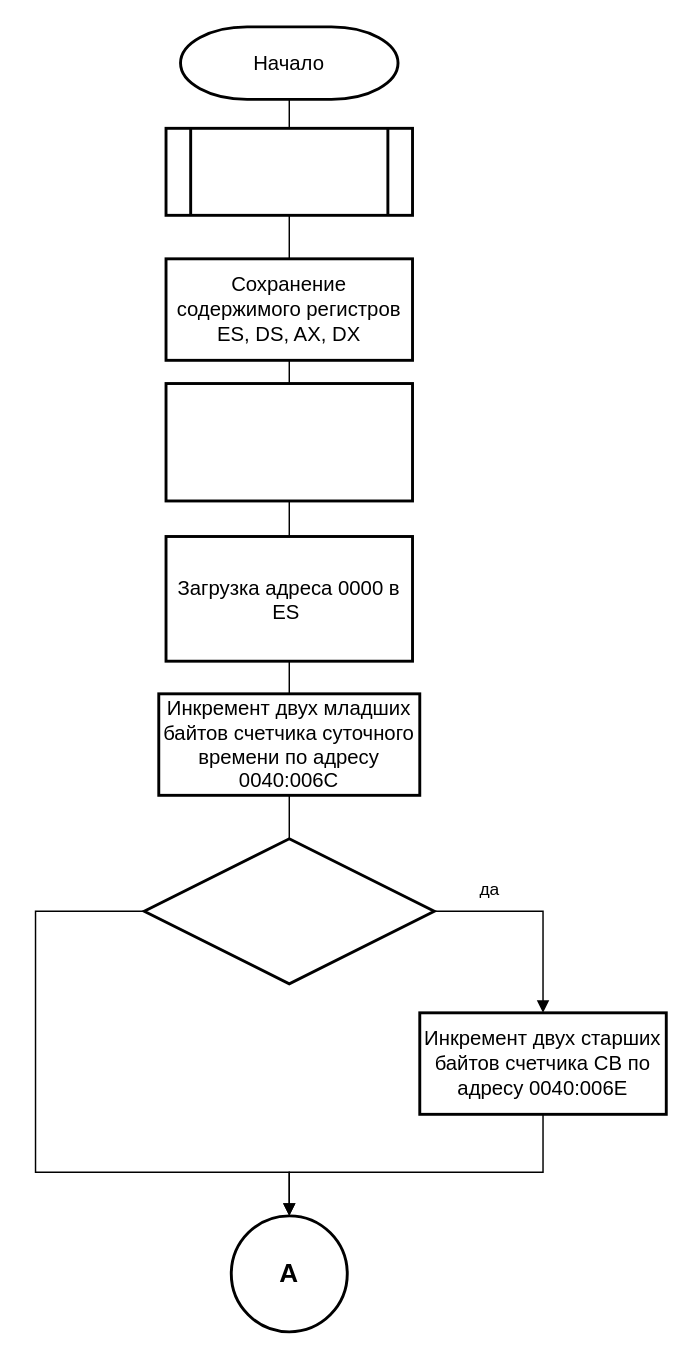
This 693x1357 diagram has some shape labels left out. The shapes that lost their labels are listed below. From the top down, each one's centre as x and y in pixels, then its label:
(288,171): Вызов процедуры sub_7
(288,441): Загрузка адреса 0040 в DS
(288,911): Два младших байта счетчика СВ == 0
